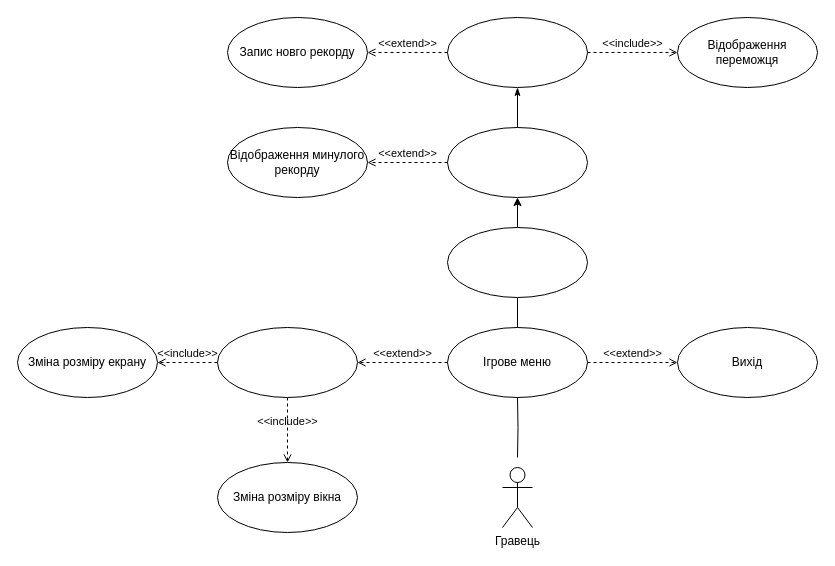
The diagram is 835 pixels wide and 566 high, and some of its shapes have lost their labels. Each missing label, with the box of its shape:
Вибір кількості гравців: (446, 126, 588, 198)
Запуск гри: (446, 226, 588, 298)
Налаштування: (216, 326, 358, 398)
Ігровий процес: (446, 16, 588, 88)
